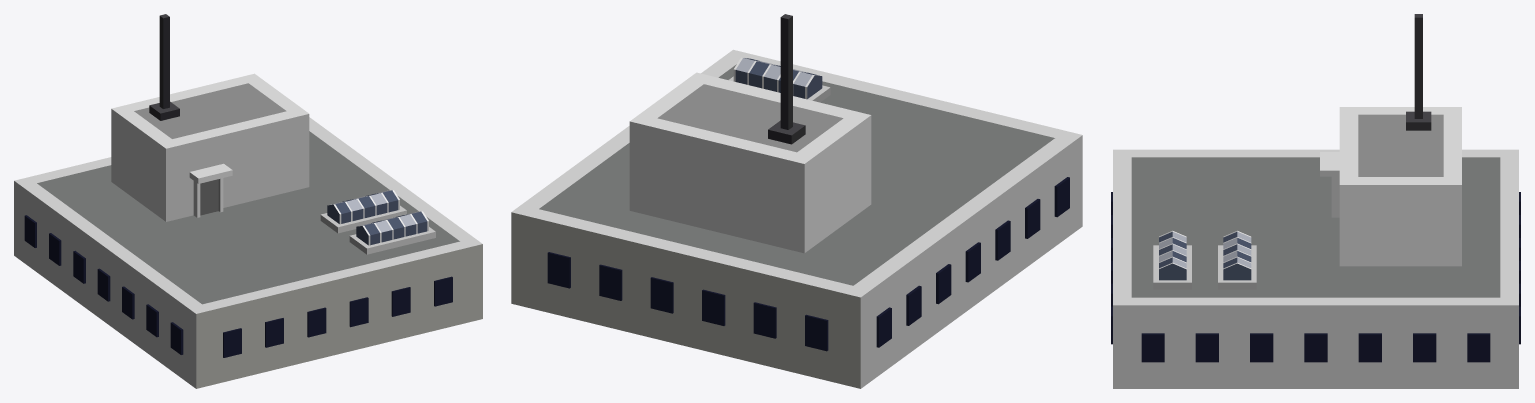
Rendered from TB_CITY_Skysc_S_Top_Gray.FBX.
The picture shows the model from 3 angles, left to right: view 1: azimuth 30°, elevation 25°; view 2: azimuth 150°, elevation 25°; view 3: azimuth 270°, elevation 25°; orthographic projection. The views are drawn at different scales.
Visible parts, largest first — view 1: TB_CITY_Skysc_S_Top_Gray; view 2: TB_CITY_Skysc_S_Top_Gray; view 3: TB_CITY_Skysc_S_Top_Gray.
Boxes of the visible parts, x1,y1,x2,y2 form: TB_CITY_Skysc_S_Top_Gray: [14, 14, 482, 388]; TB_CITY_Skysc_S_Top_Gray: [511, 14, 1082, 388]; TB_CITY_Skysc_S_Top_Gray: [1111, 14, 1520, 388].
Bounding box in the file's own units: 20.32 × 16.44 × 22.23.
